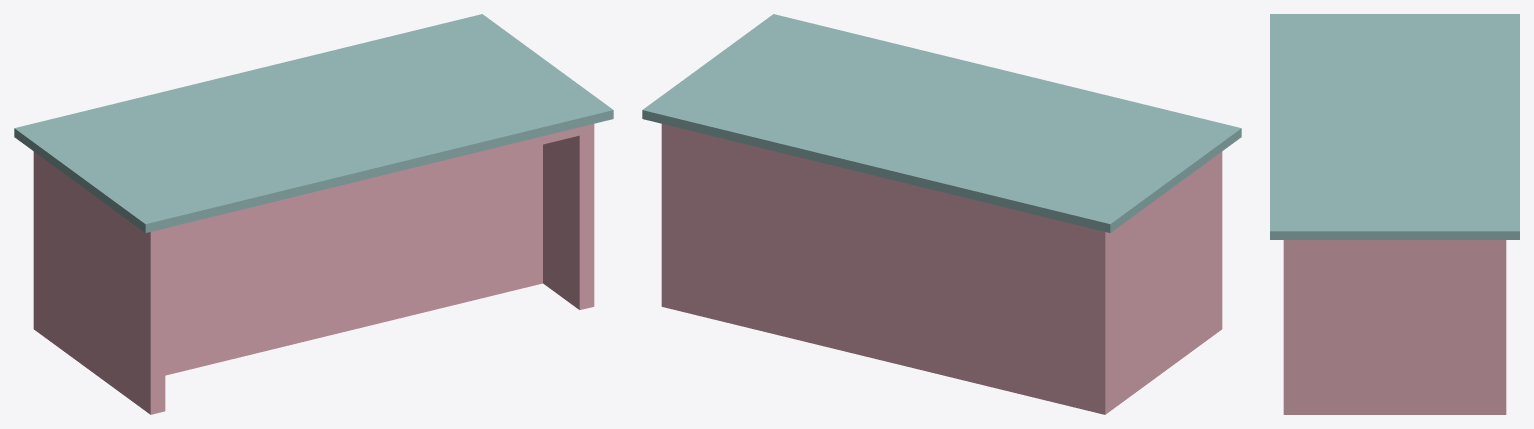
The model's file is Kitchen_Bar_Table_Pink.fbx.
3 views of the same model, side by side, from view 1: azimuth 30°, elevation 25°; view 2: azimuth 150°, elevation 25°; view 3: azimuth 270°, elevation 25° (orthographic). The views are drawn at different scales.
Parts seen in each view (by area): view 1: Kitchen_Bar_Table_Pink; view 2: Kitchen_Bar_Table_Pink; view 3: Kitchen_Bar_Table_Pink.
Part boxes in pixels (x1,y1,x2,y2): Kitchen_Bar_Table_Pink: (14, 14, 613, 414); Kitchen_Bar_Table_Pink: (642, 14, 1241, 414); Kitchen_Bar_Table_Pink: (1270, 14, 1519, 414).
Bounding box in the file's own units: 204 × 82.98 × 99.19.
